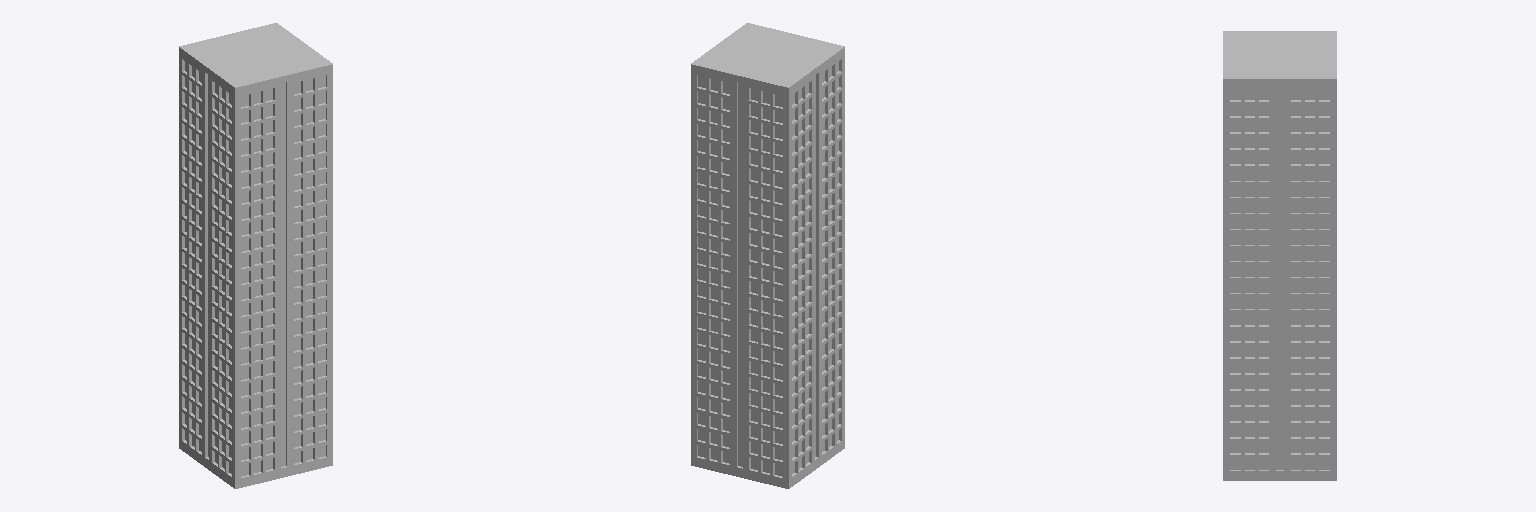
The model's file is skyscraper1.obj.
3 views of the same model, side by side, from view 1: azimuth 30°, elevation 25°; view 2: azimuth 150°, elevation 25°; view 3: azimuth 270°, elevation 25° (orthographic).
Visible parts, largest first — view 1: object 1; view 2: object 1; view 3: object 1.
Boxes of the visible parts, box(x1,y1,x2,y2) form: object 1: box(179, 23, 332, 488); object 1: box(691, 23, 844, 488); object 1: box(1223, 31, 1336, 480).
Bounding box in the file's own units: 3.2 × 12.5 × 3.2.